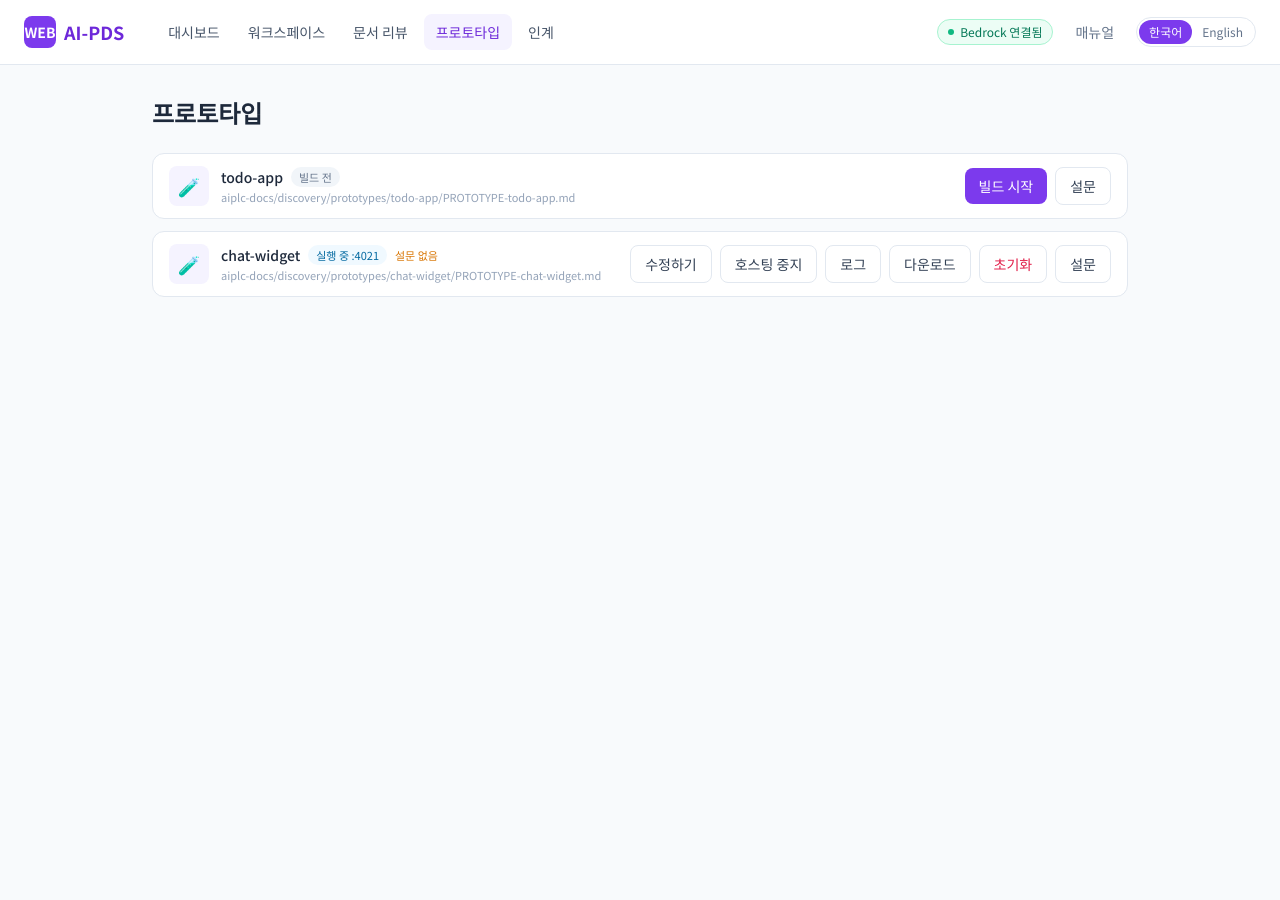
reset confirmation › shows the fresh response count and irreversibility wording in the dialog
Expected: the text "chat-widget" is shown, [221, 245, 300, 265]
Click the button with aria-label "chat-widget 초기화": click(1013, 264) [979, 245, 1047, 283]
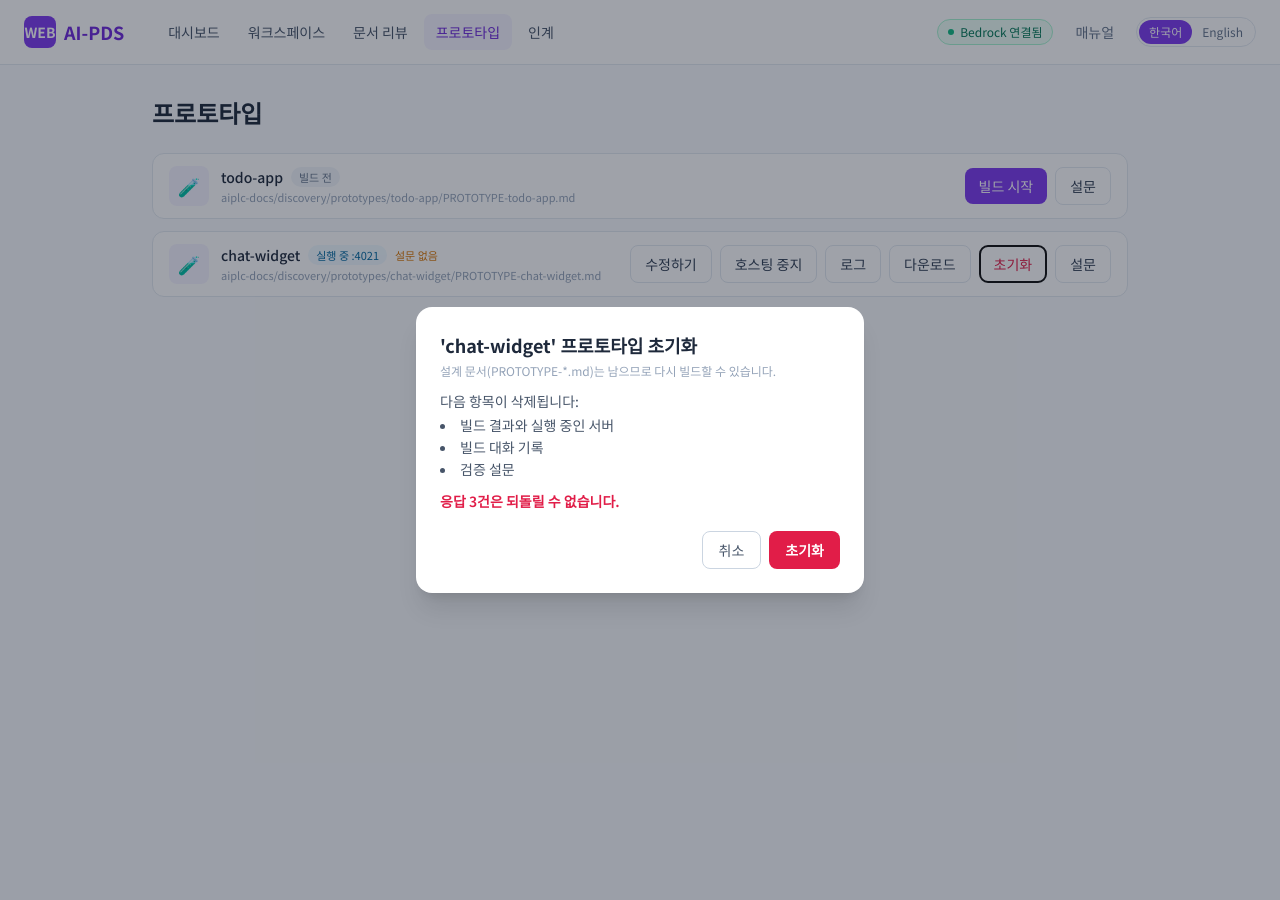
Result: the dialog named "프로토타입 초기화 확인" shows "응답 3건" at [440, 491, 620, 511]
Result: the dialog named "프로토타입 초기화 확인" shows "되돌릴 수 없습니다" at [440, 491, 620, 511]
